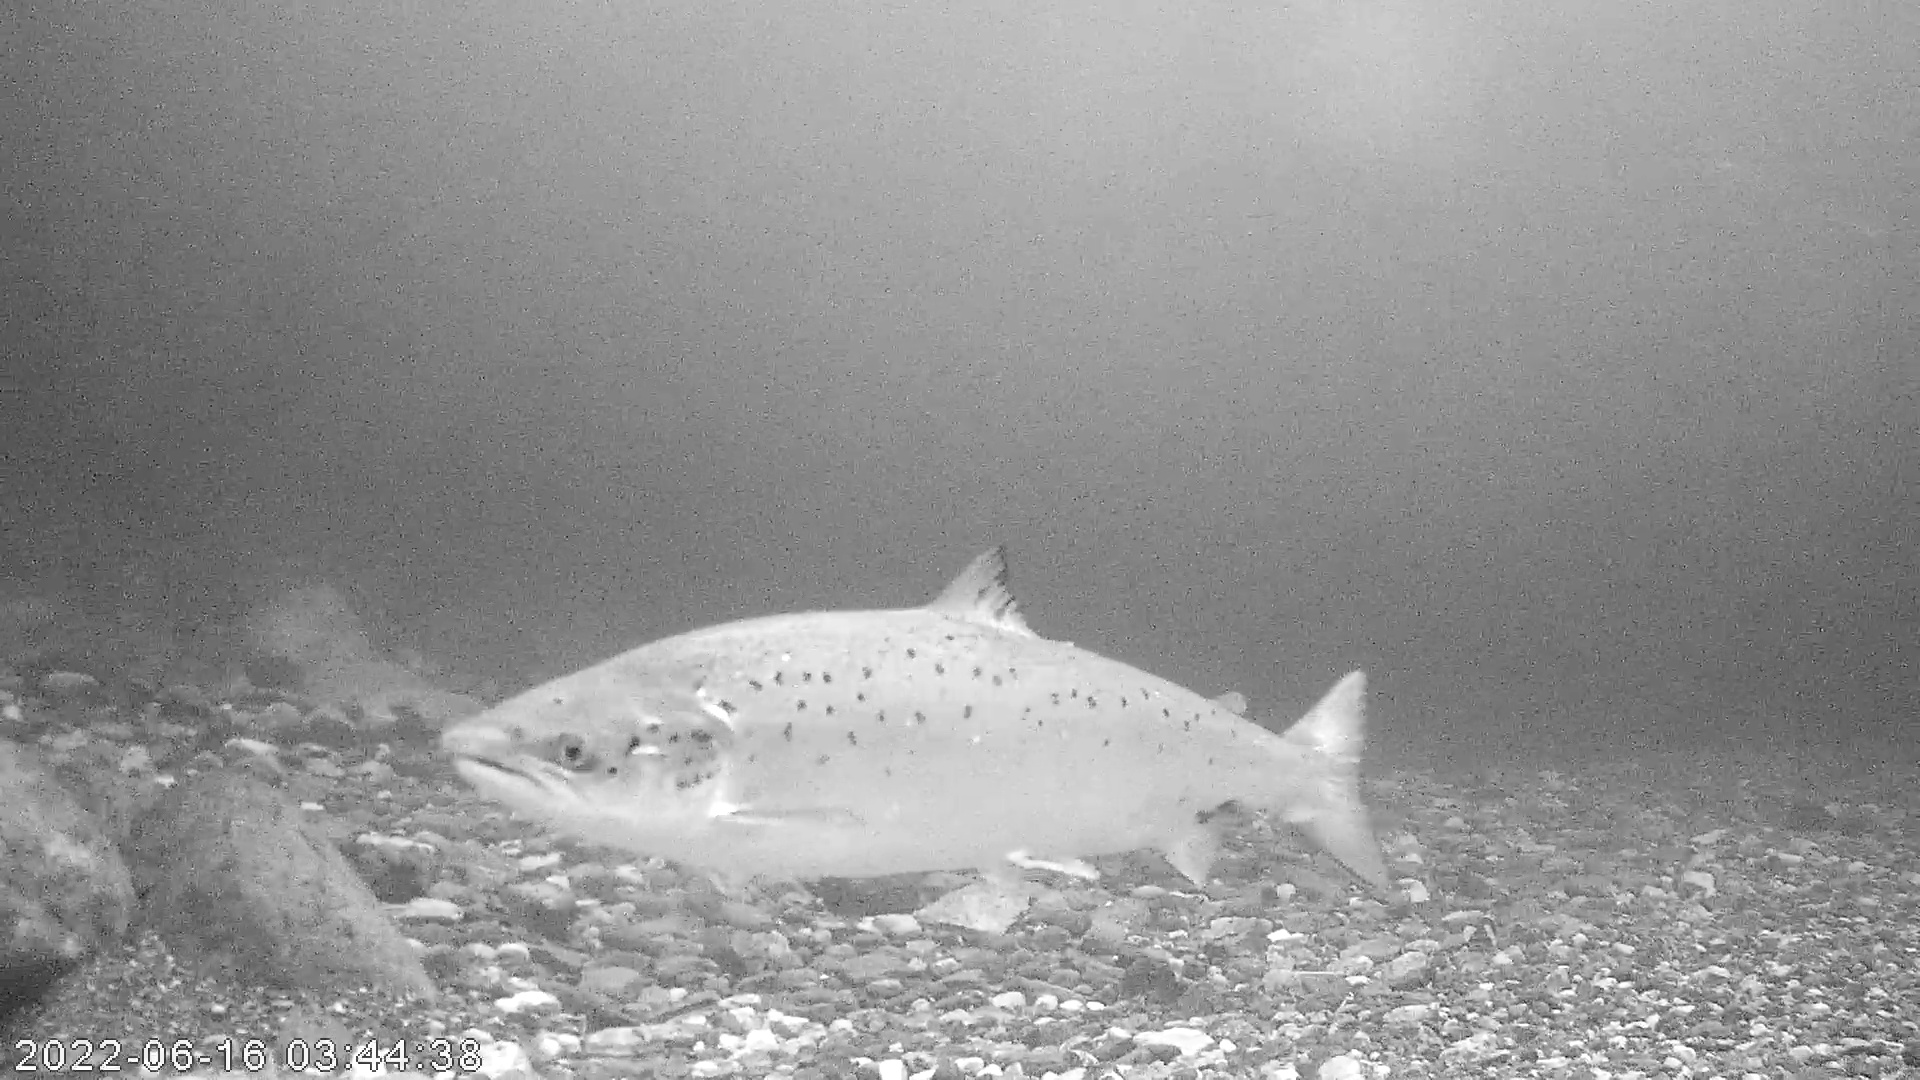salmon: (436, 541, 1389, 895)
